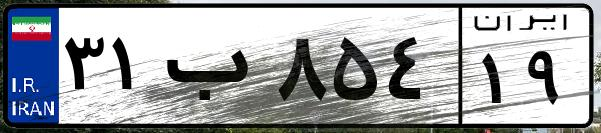1: (475, 38, 525, 113), (110, 28, 158, 98)
3: (57, 26, 110, 100)
4: (385, 28, 445, 110)
5: (330, 28, 385, 110)
8: (270, 28, 330, 110)
9: (525, 38, 570, 115)
ب: (158, 20, 270, 120)
